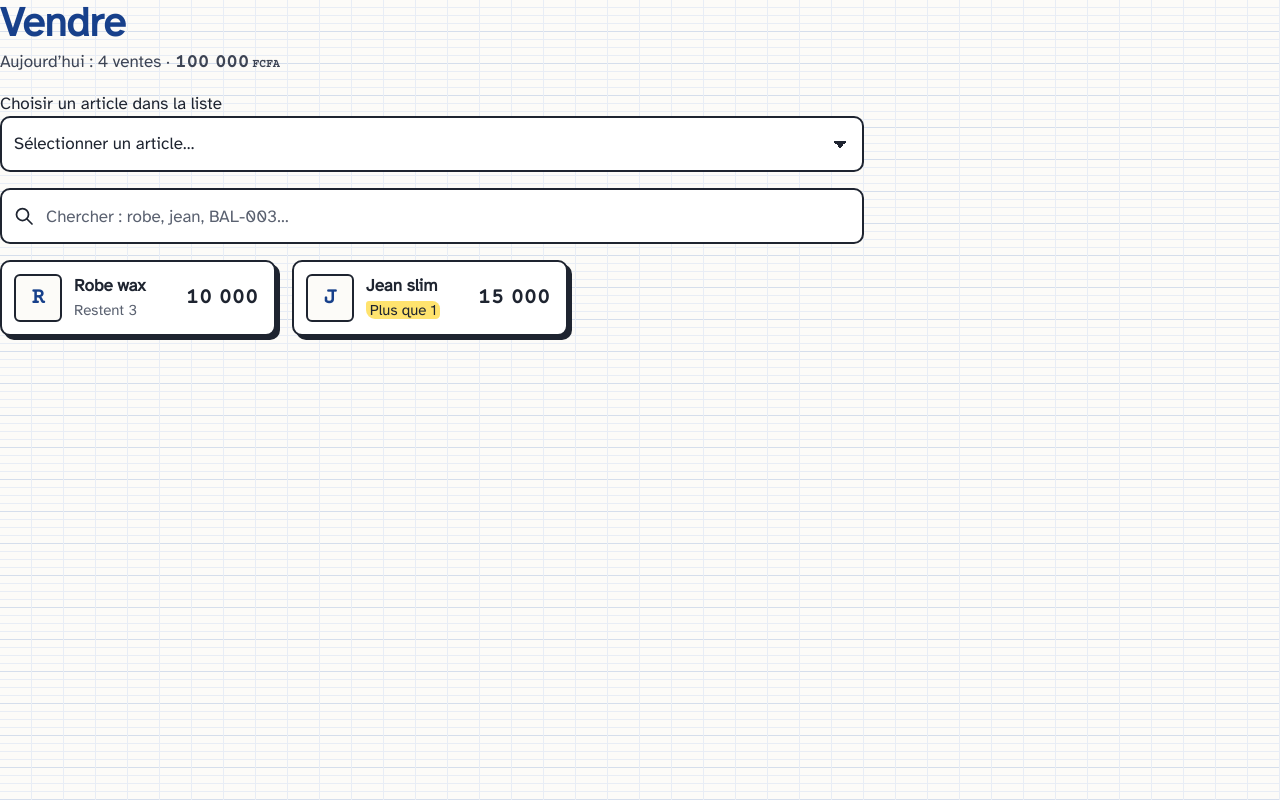
Test: SalePage — counter mode (till session on the owner’s device) › a frozen cart is retried with the same key and the same till session
Expected: the text "Robe wax" is shown, [74,275,145,296]
What coordinates should you click on to do the following:
click the button "R Robe wax Restent 3 10 000"
I would click on:
 (138, 298)
Its box is [0,260,276,336].
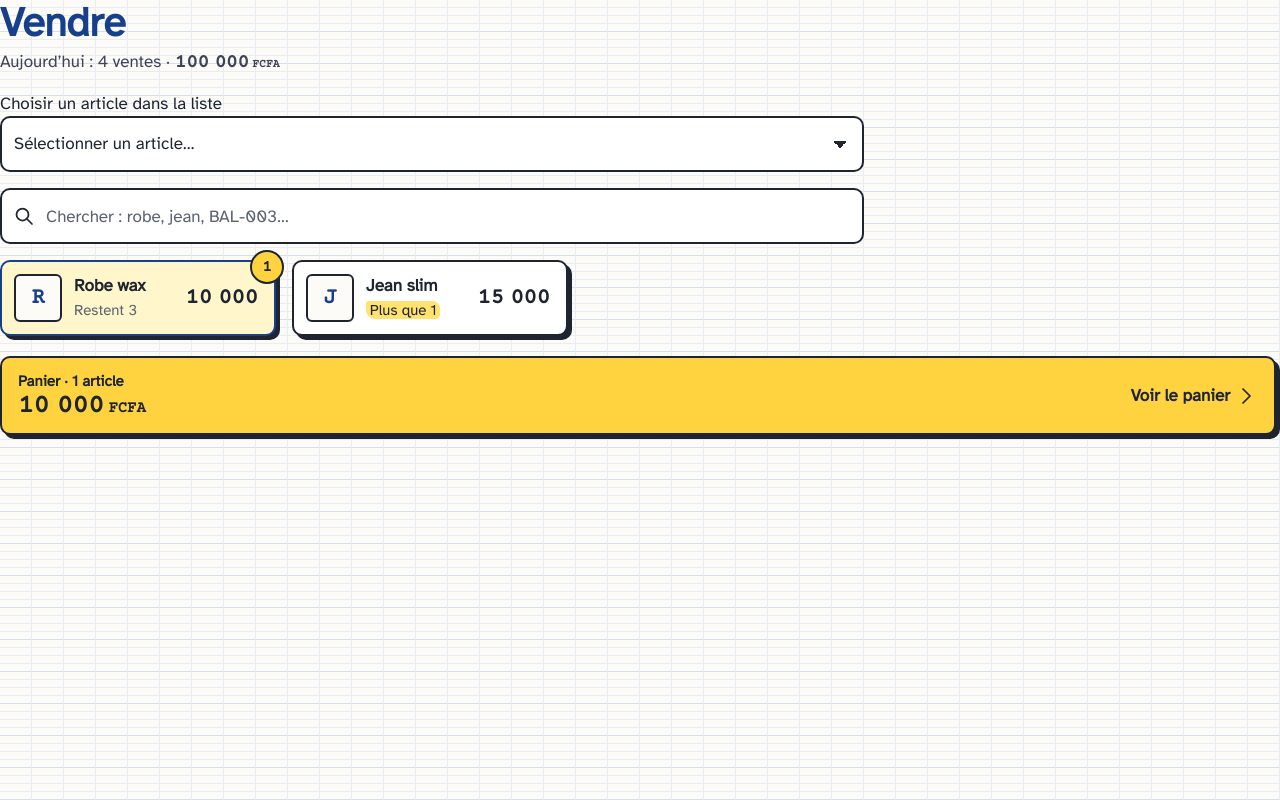
What coordinates should you click on to do the following:
click the button "J Jean slim Plus que 1 15 000"
I would click on:
 (430, 298)
Its box is [292,260,568,336].
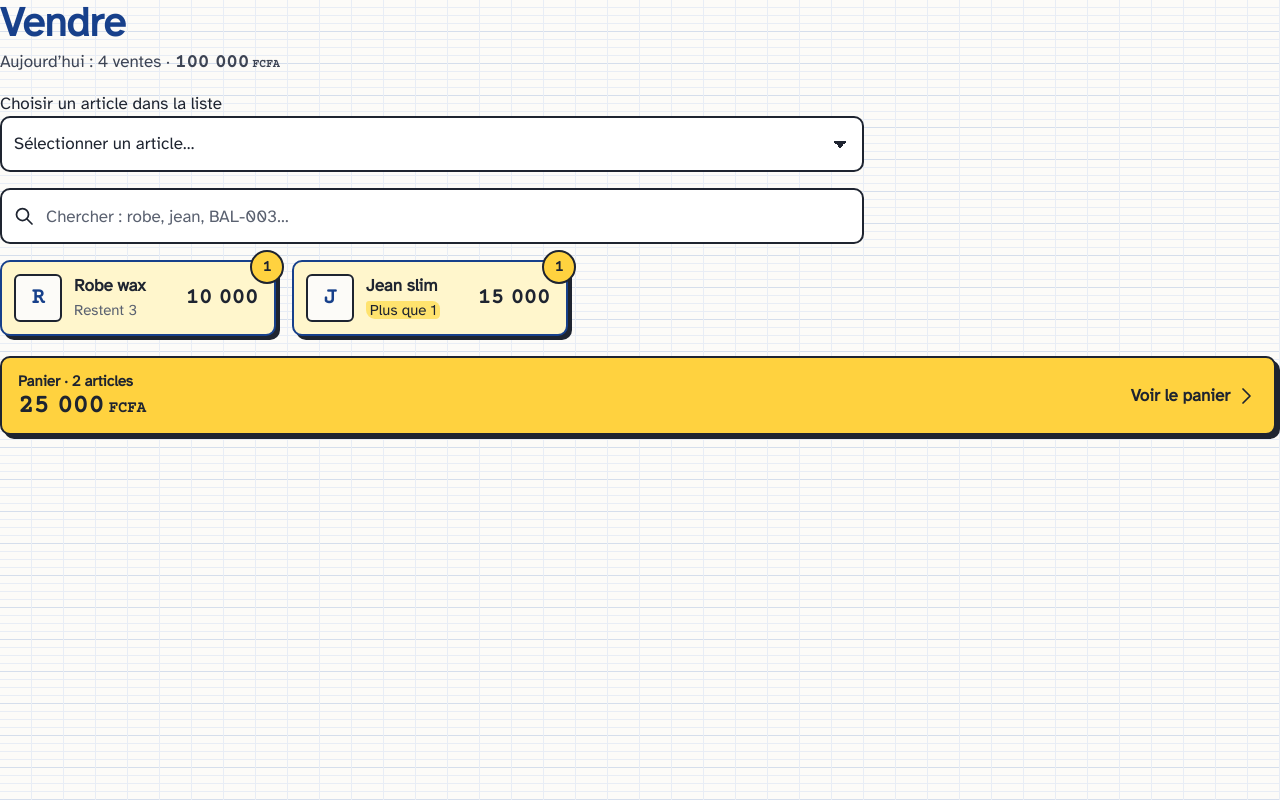
What coordinates should you click on to do the following:
click the button "Panier · 2 articles 25 000FCFA Voir le panier"
I would click on:
 (39, 381)
Its box is [0,356,1276,435].
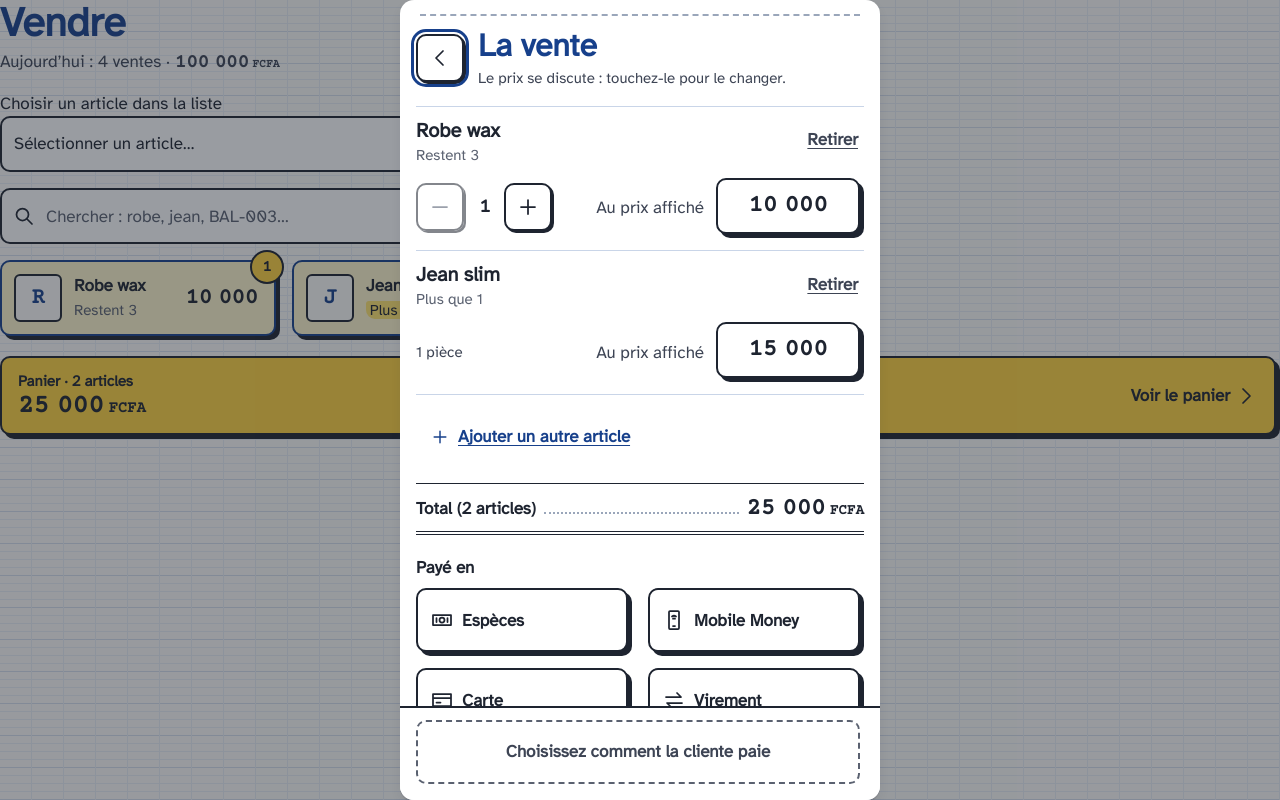
What coordinates should you click on to do the following:
click the radio button labelled "Carte"
I would click on:
 (524, 702)
Its box is [416,668,632,736].
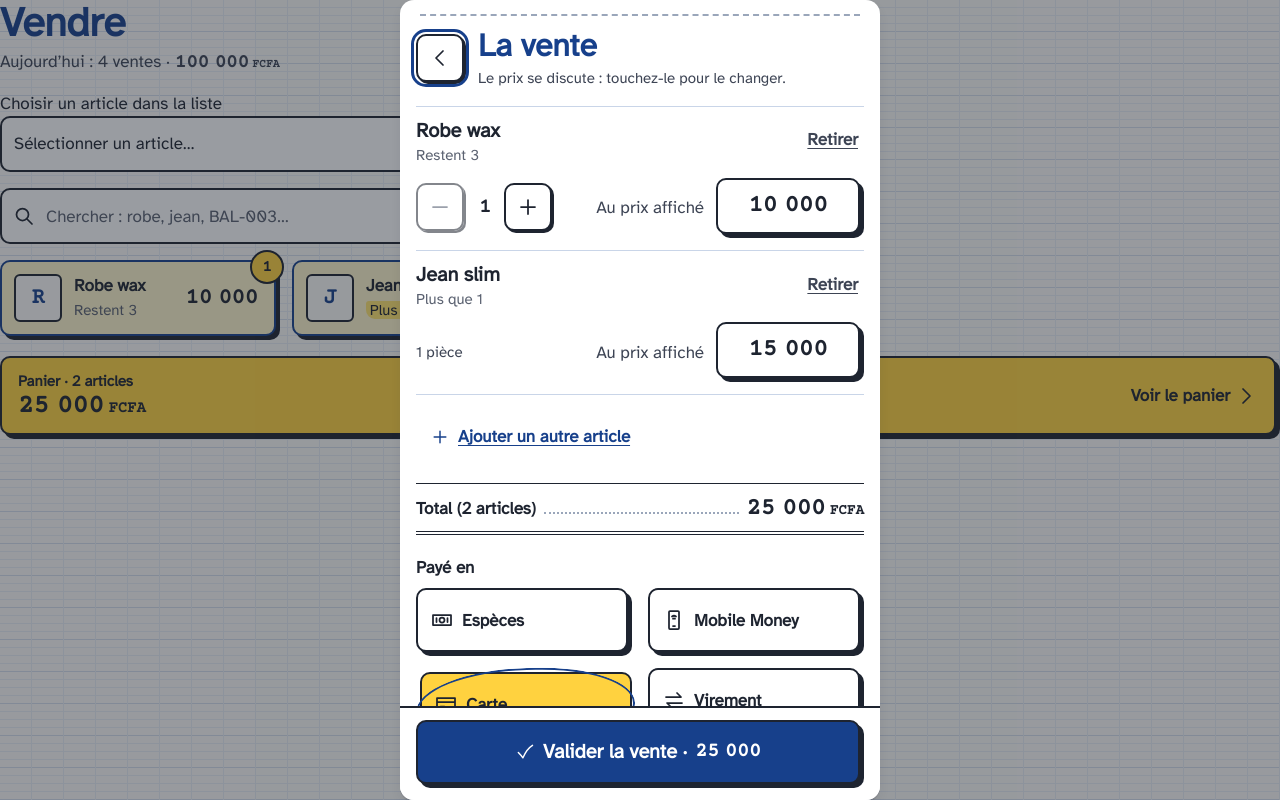
What coordinates should you click on to do the following:
click the button "Valider la vente · 25 000"
I would click on:
 (638, 752)
Its box is [416,720,860,784].
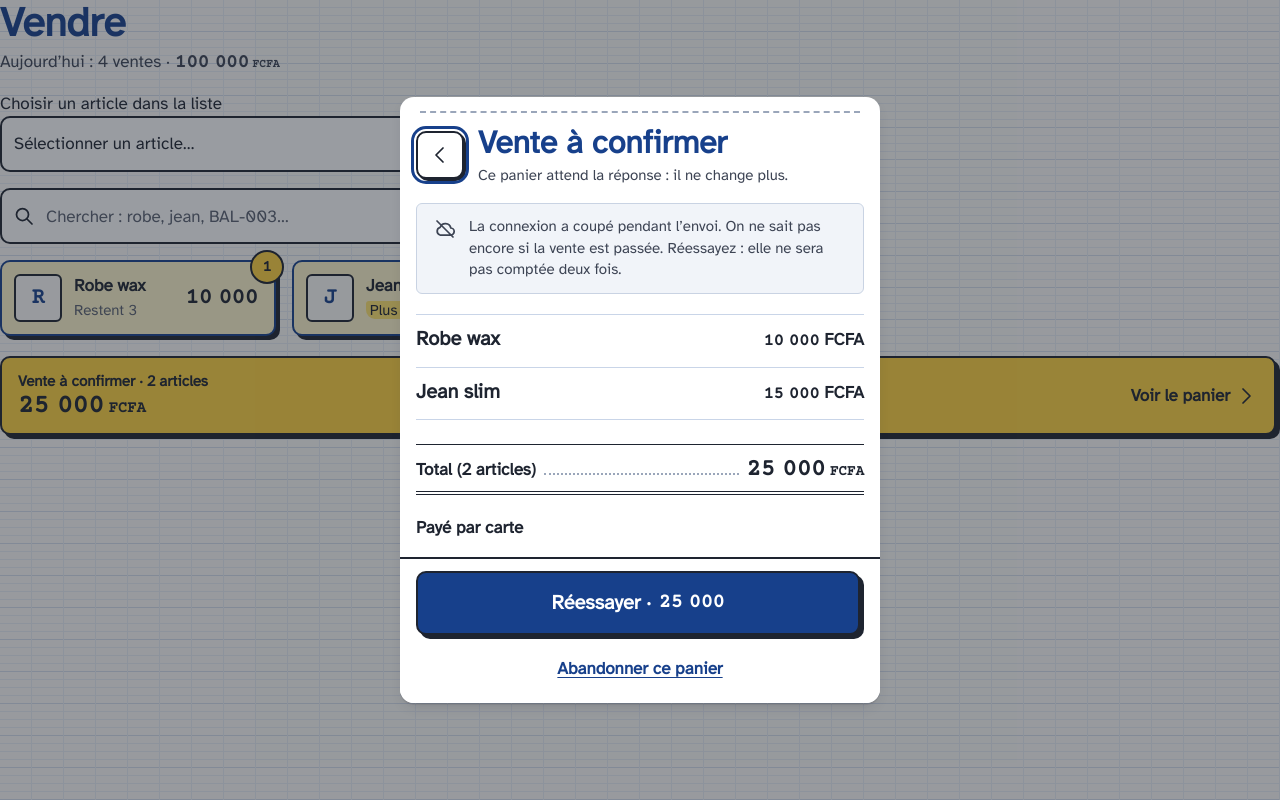
Result: the text "La connexion a coupé pendant l’envoi. On ne sait pas encore si la vente est passée. Réessayez : elle ne sera pas comptée" is shown at [469,217,824,278]
What coordinates should you click on to do the following:
click the button "Réessayer · 25 000"
I would click on:
 (638, 603)
Its box is [416,571,860,635].
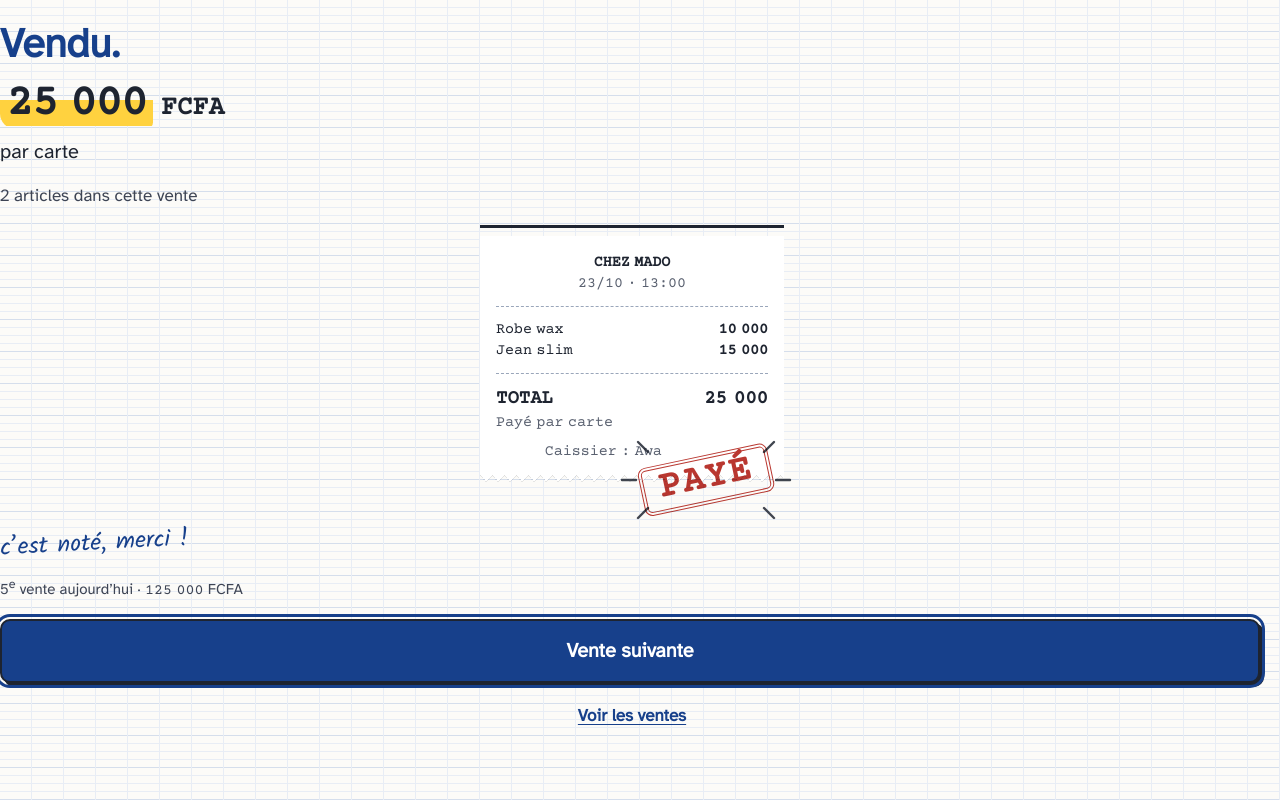
Result: the heading "Vendu." is shown at [0,24,120,65]
